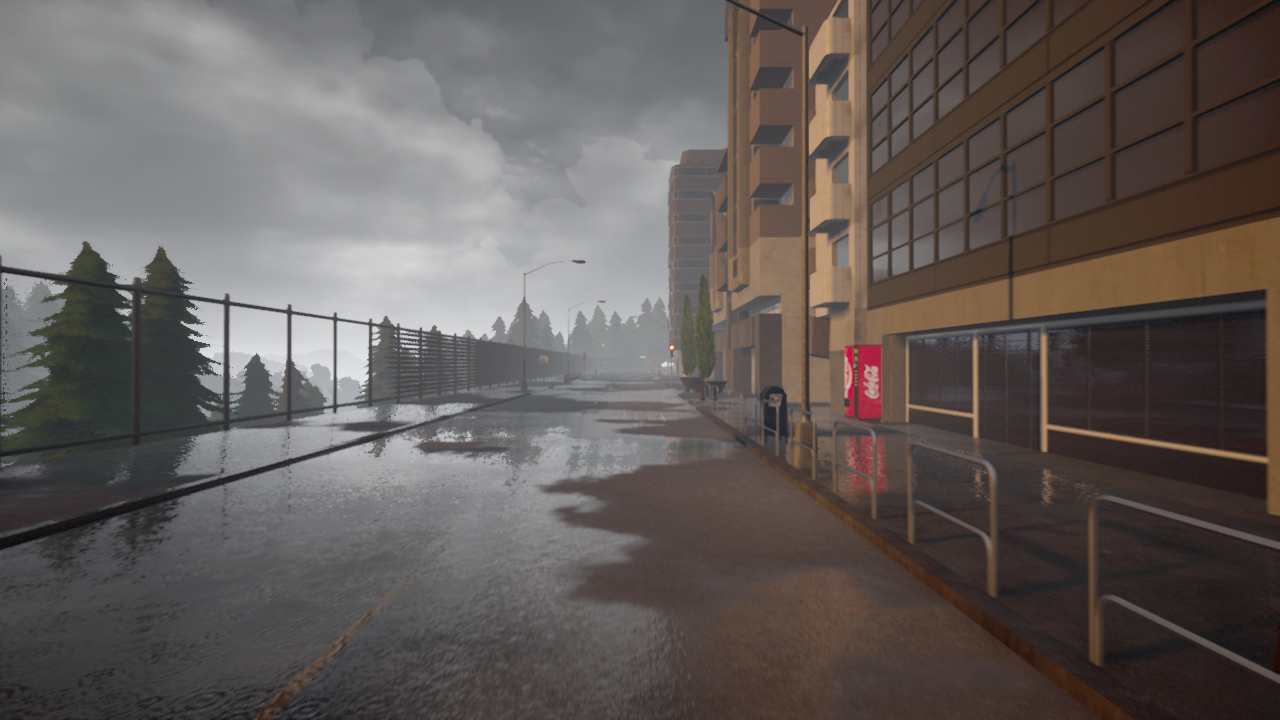red: (668, 343, 674, 358)
